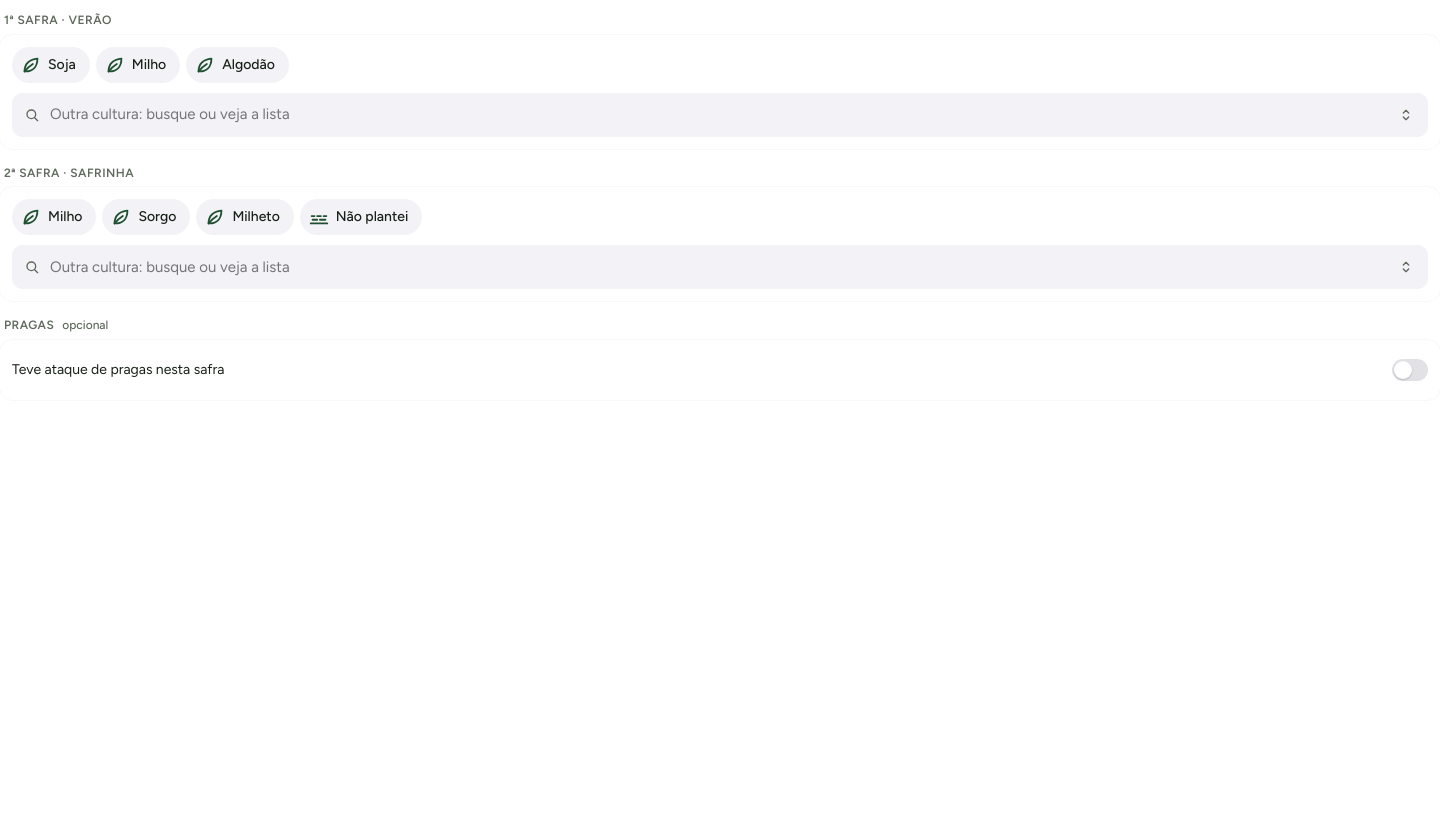
Test: EditorSafra › busca sem resultado oferece "Usar"
The image size is (1440, 822).
Type "Girassol" into the dropdown named "Buscar cultura da 1ª safra · verão" at (714, 115), box [48,103,1380,126]
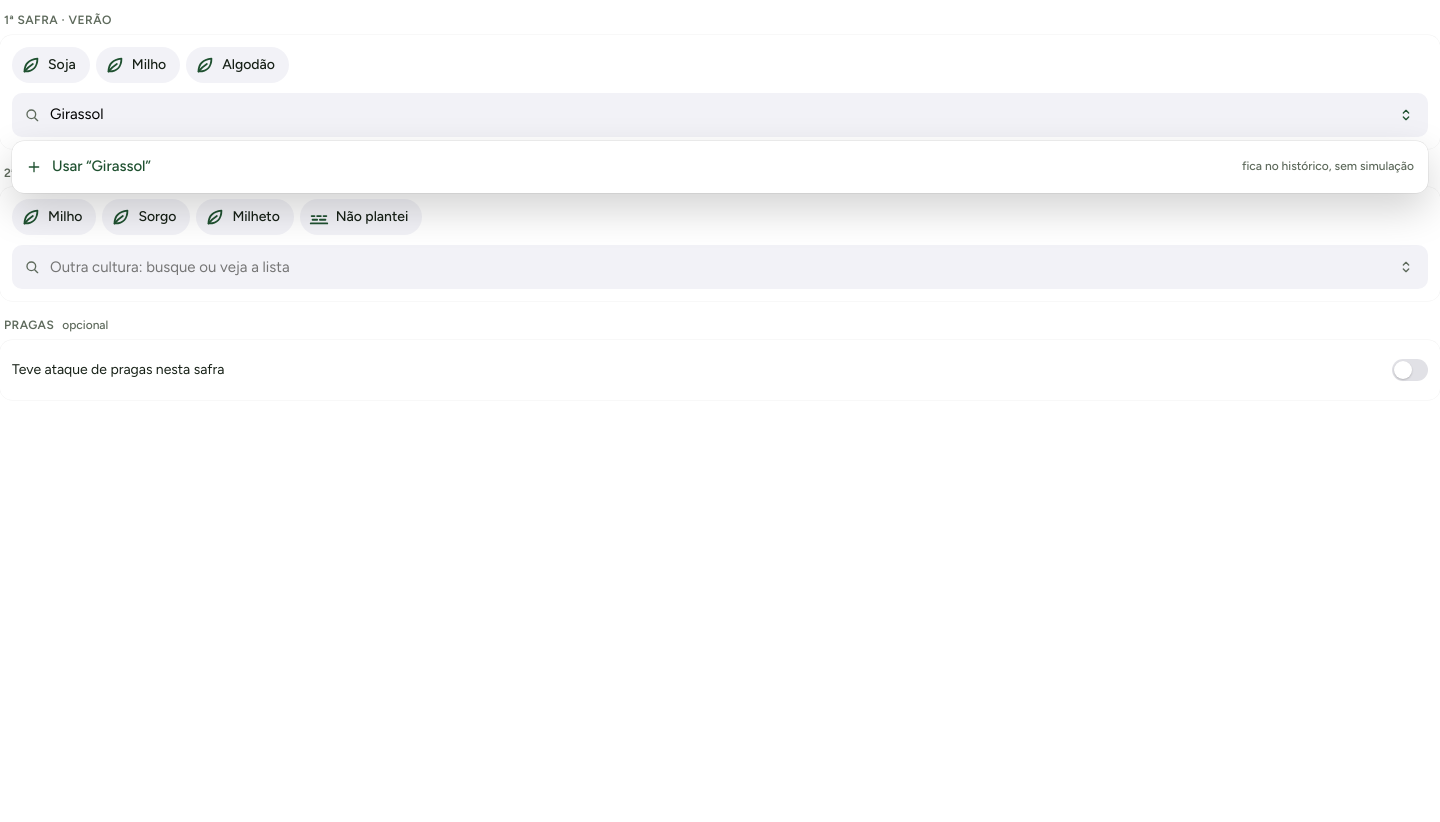
Click the option "Usar “Girassol” fica no histórico, sem simulação" at (101, 166), box [12,144,1428,188]
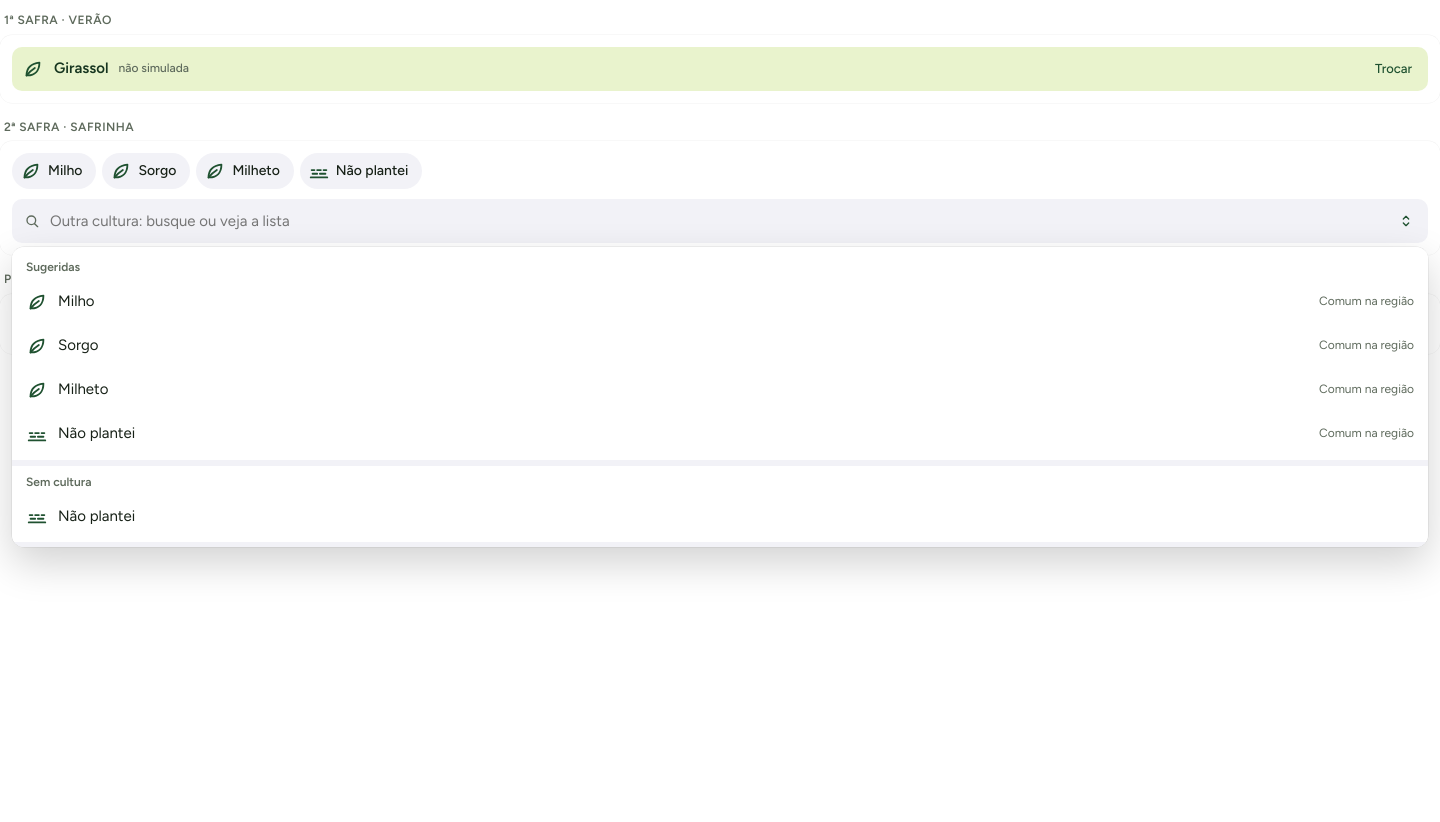
Now the text "não simulada" is shown, box [118,60,189,77]
